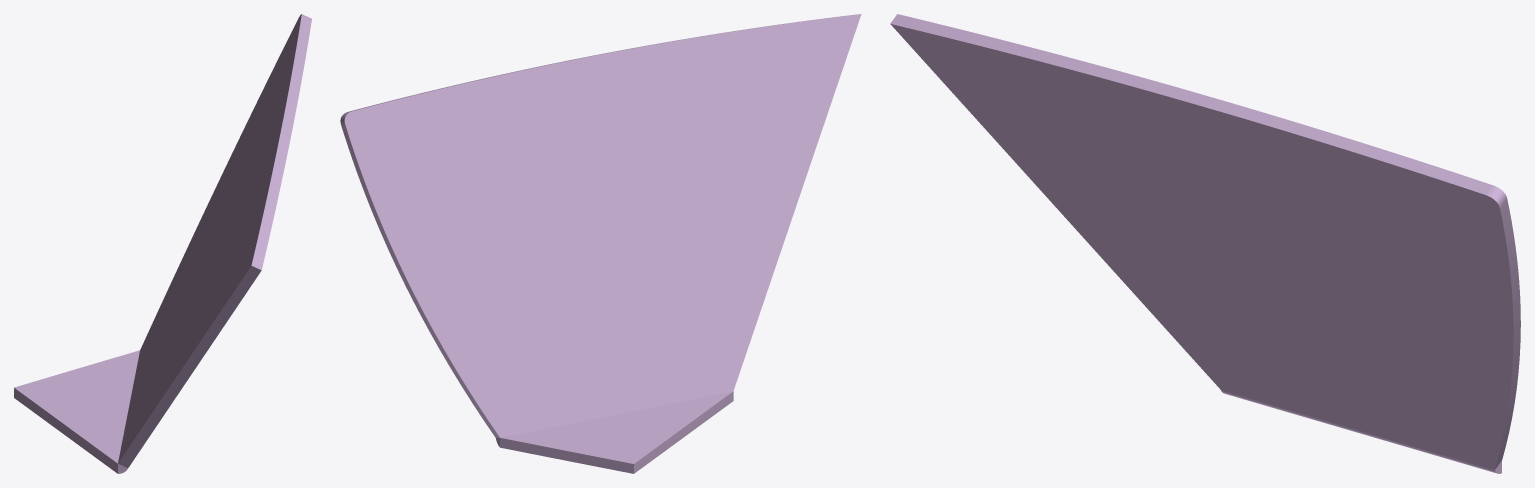
The model's file is OUTFITTING_INTERIOR___ugly corner_ options__small corner box.glb.
The picture shows the model from 3 angles, left to right: view 1: azimuth 30°, elevation 25°; view 2: azimuth 150°, elevation 25°; view 3: azimuth 270°, elevation 25°; orthographic projection. The views are drawn at different scales.
Parts seen in each view (by area): view 1: small corner box; view 2: small corner box; view 3: small corner box.
Boxes of the visible parts, left/top/right/bottom form: small corner box: left=14, top=14, right=311, bottom=473; small corner box: left=340, top=14, right=861, bottom=473; small corner box: left=890, top=14, right=1520, bottom=473.
Size of the model in its own units: 0.3877 by 0.3885 by 0.5682.
